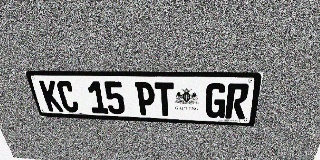1: (85, 81, 109, 114)
5: (103, 81, 126, 114)
C: (55, 81, 80, 113)
G: (205, 83, 228, 118)
K: (39, 80, 64, 112)
P: (135, 82, 156, 116)
R: (225, 83, 250, 119)
T: (154, 82, 174, 116)
